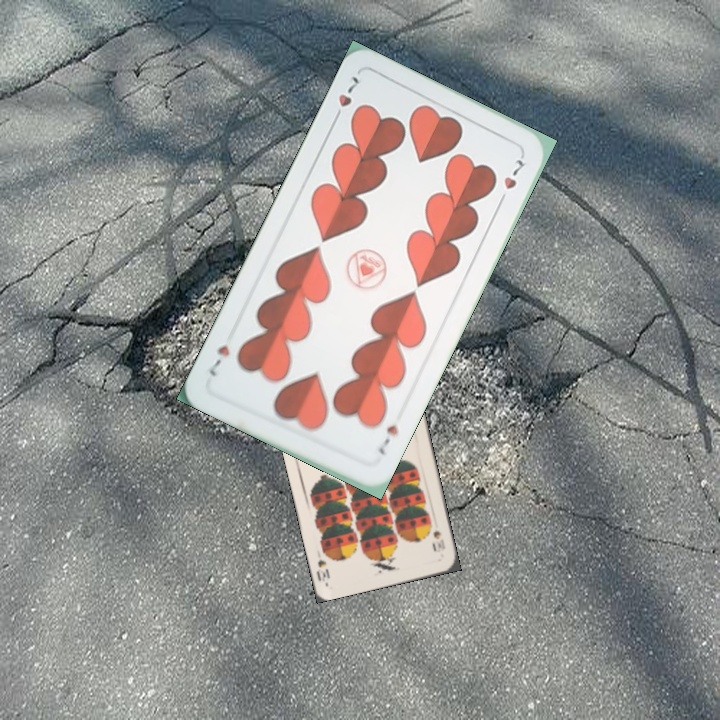H7: (329, 71, 363, 125), (374, 420, 401, 458)
S10: (426, 519, 448, 554)
